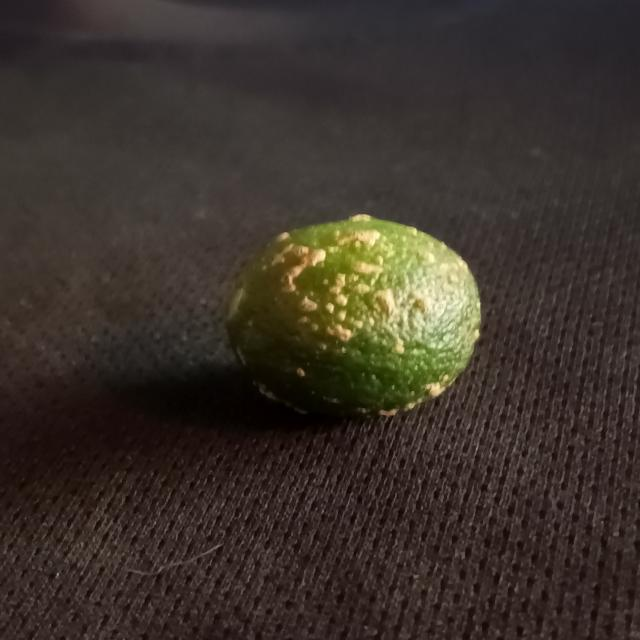scab: (225, 210, 492, 420)
